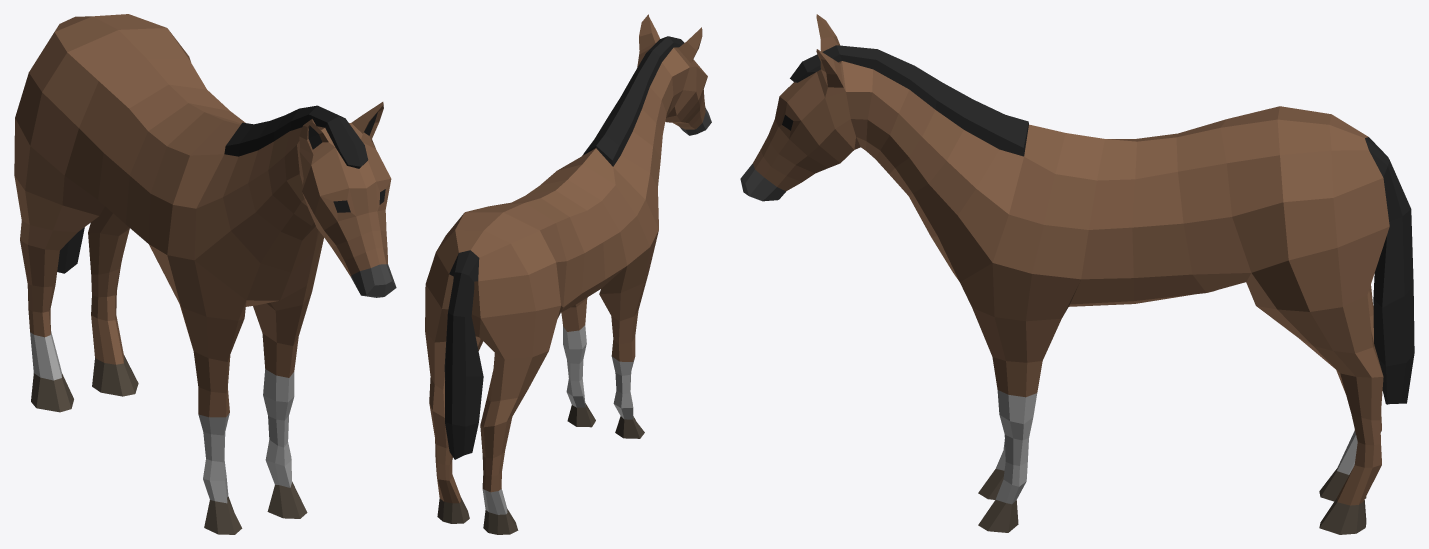
Rendered from horse.glb.
3 views of the same model, side by side, from view 1: azimuth 30°, elevation 25°; view 2: azimuth 150°, elevation 25°; view 3: azimuth 270°, elevation 25° (orthographic). The views are drawn at different scales.
Visible parts, largest first — view 1: horse; view 2: horse; view 3: horse.
Part boxes in pixels (box(x1,y1,x2,y2)): horse: box(14, 14, 396, 534); horse: box(425, 14, 711, 534); horse: box(740, 14, 1414, 534).
Size of the model in its own units: 0.7234 by 1.99 by 2.54.
